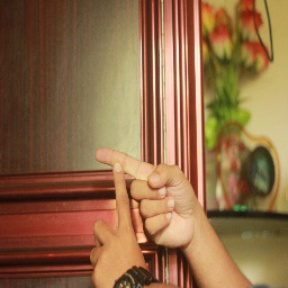T: (81, 141, 162, 247)
